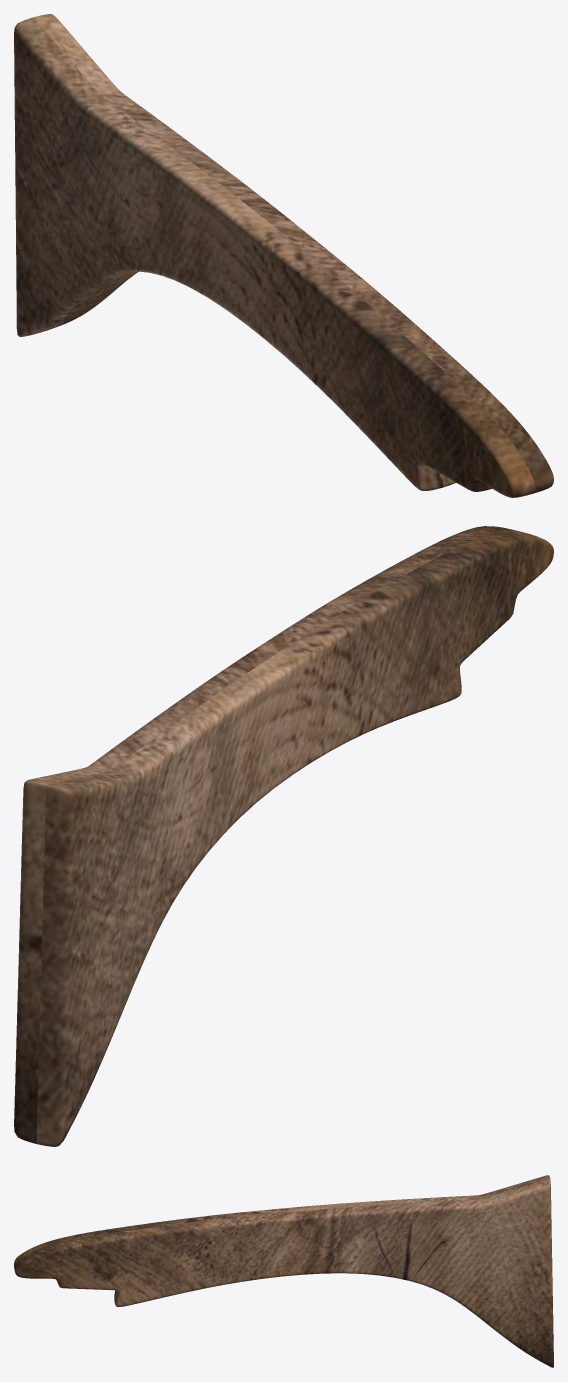
The model's file is spinnerTail.obj.
3 views of the same model, one above another, from view 1: azimuth 30°, elevation 25°; view 2: azimuth 150°, elevation 25°; view 3: azimuth 270°, elevation 25° (orthographic). The views are drawn at different scales.
Parts seen in each view (by area): view 1: tail; view 2: tail; view 3: tail.
Boxes of the visible parts, x1,y1,x2,y2 form: tail: [14, 14, 553, 497]; tail: [14, 526, 553, 1146]; tail: [14, 1175, 553, 1367].
Size of the model in its own units: 0.0362 by 0.1419 by 0.3785.
Materials: 1 (1 with a texture image).
